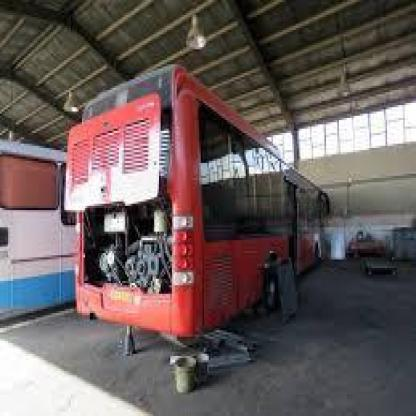Bus: (66, 66, 347, 322), (0, 146, 92, 347)
